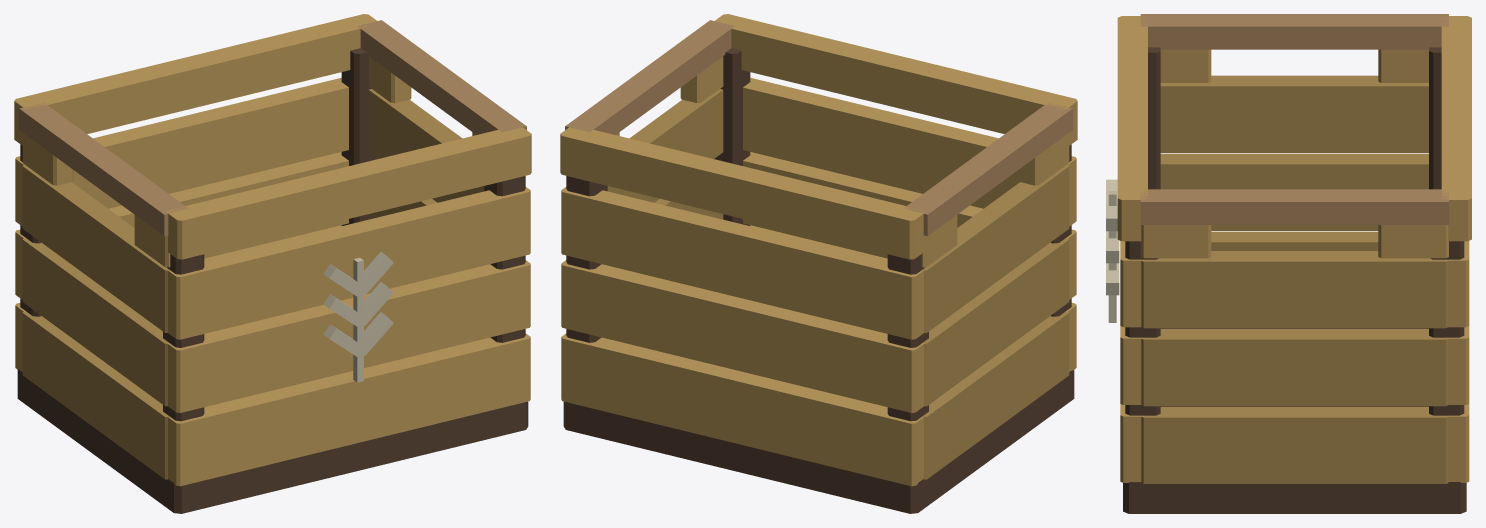
Rendered from sort_bin_yellow.glb.
The picture shows the model from 3 angles, left to right: view 1: azimuth 30°, elevation 25°; view 2: azimuth 150°, elevation 25°; view 3: azimuth 270°, elevation 25°; orthographic projection. The views are drawn at different scales.
Visible parts, largest first — view 1: geometry; view 2: geometry; view 3: geometry.
Part boxes in pixels (x1=…): geometry: x1=14, y1=14, x2=531, y2=513; geometry: x1=560, y1=14, x2=1077, y2=513; geometry: x1=1106, y1=14, x2=1471, y2=513.
Size of the model in its own units: 0.88 by 0.685 by 0.723.
